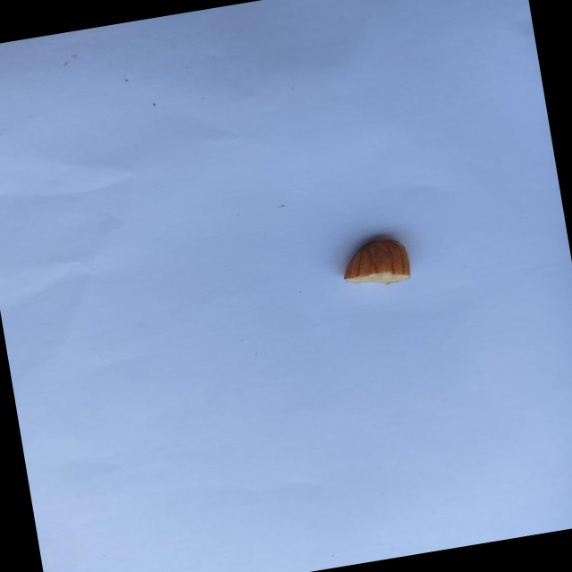grade4: (330, 228, 420, 296)
